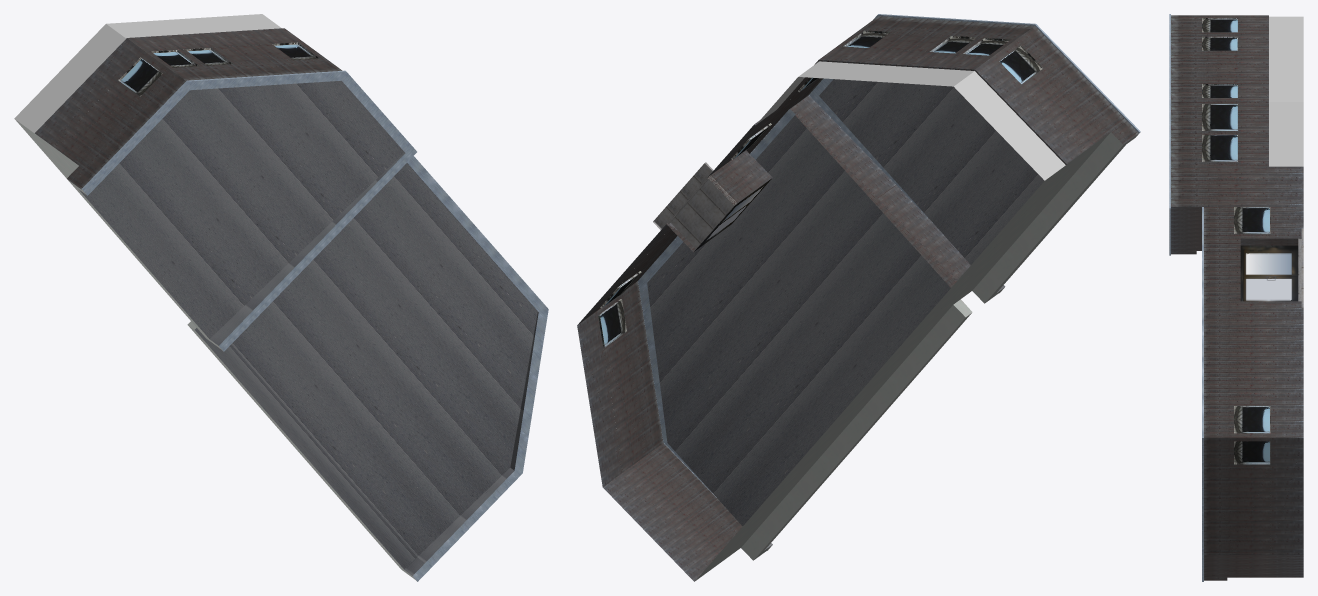
File: rannam2e_tee_5.1.obj
The picture shows the model from 3 angles, left to right: view 1: azimuth 30°, elevation 25°; view 2: azimuth 150°, elevation 25°; view 3: azimuth 270°, elevation 25°; orthographic projection. The views are drawn at different scales.
Parts seen in each view (by area): view 1: default; view 2: default; view 3: default.
Boxes of the visible parts, x1,y1,x2,y2 form: default: [14, 14, 548, 581]; default: [577, 14, 1140, 581]; default: [1169, 14, 1303, 581].
Size of the model in its own units: 17.05 by 19.31 by 5.01.
